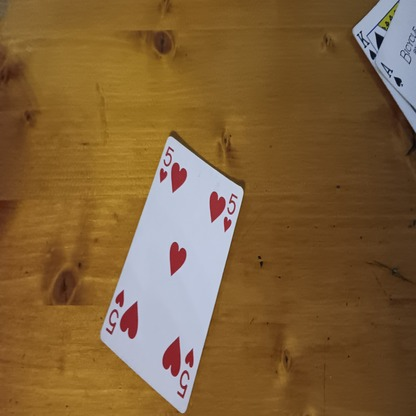5h: (177, 347, 197, 399), (103, 291, 123, 336), (222, 190, 236, 232), (160, 144, 173, 183)
